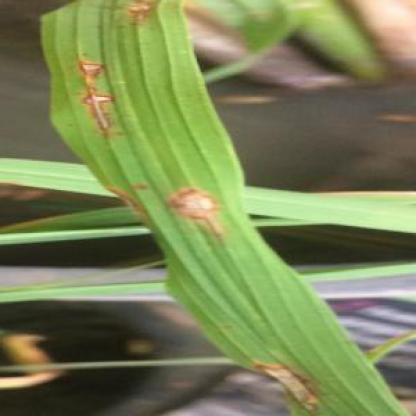Rice blast: (237, 355, 334, 413), (169, 181, 235, 241), (72, 48, 113, 144)
